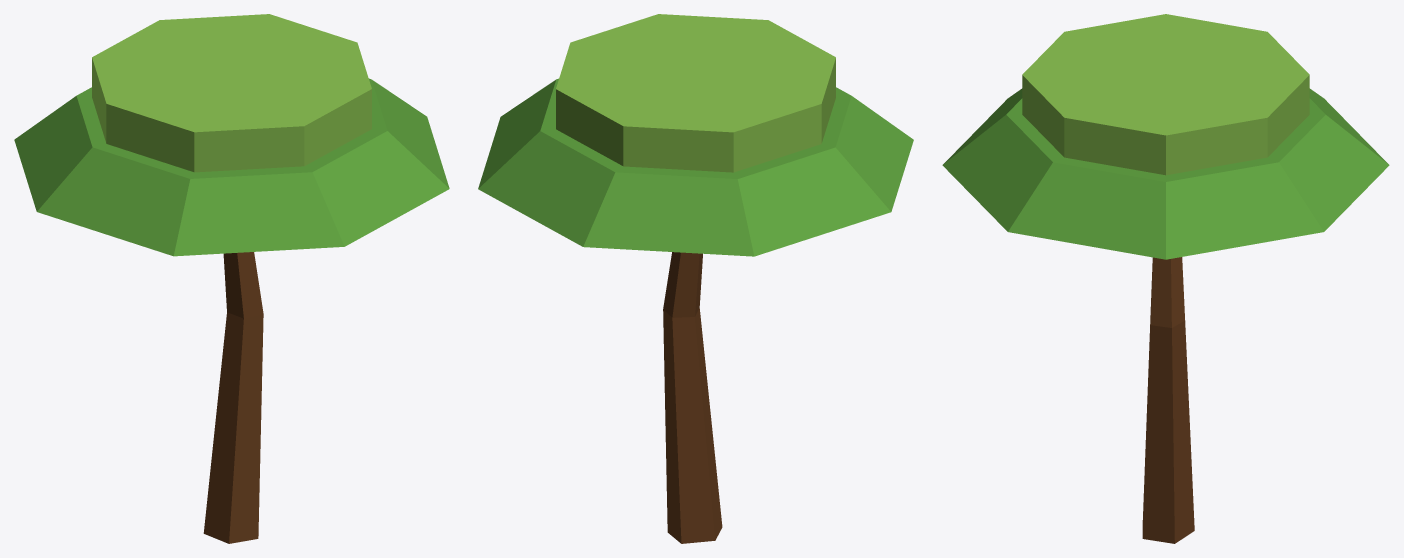
Rendered from savanna_tree.glb.
The picture shows the model from 3 angles, left to right: view 1: azimuth 30°, elevation 25°; view 2: azimuth 150°, elevation 25°; view 3: azimuth 270°, elevation 25°; orthographic projection.
Parts seen in each view (by area): view 1: savanna_tree; view 2: savanna_tree; view 3: savanna_tree.
Part boxes in pixels (x1=…): savanna_tree: x1=14, y1=14, x2=449, y2=543; savanna_tree: x1=478, y1=14, x2=913, y2=543; savanna_tree: x1=942, y1=14, x2=1389, y2=543.
Bounding box in the file's own units: 2.8 × 3.16 × 2.8.
